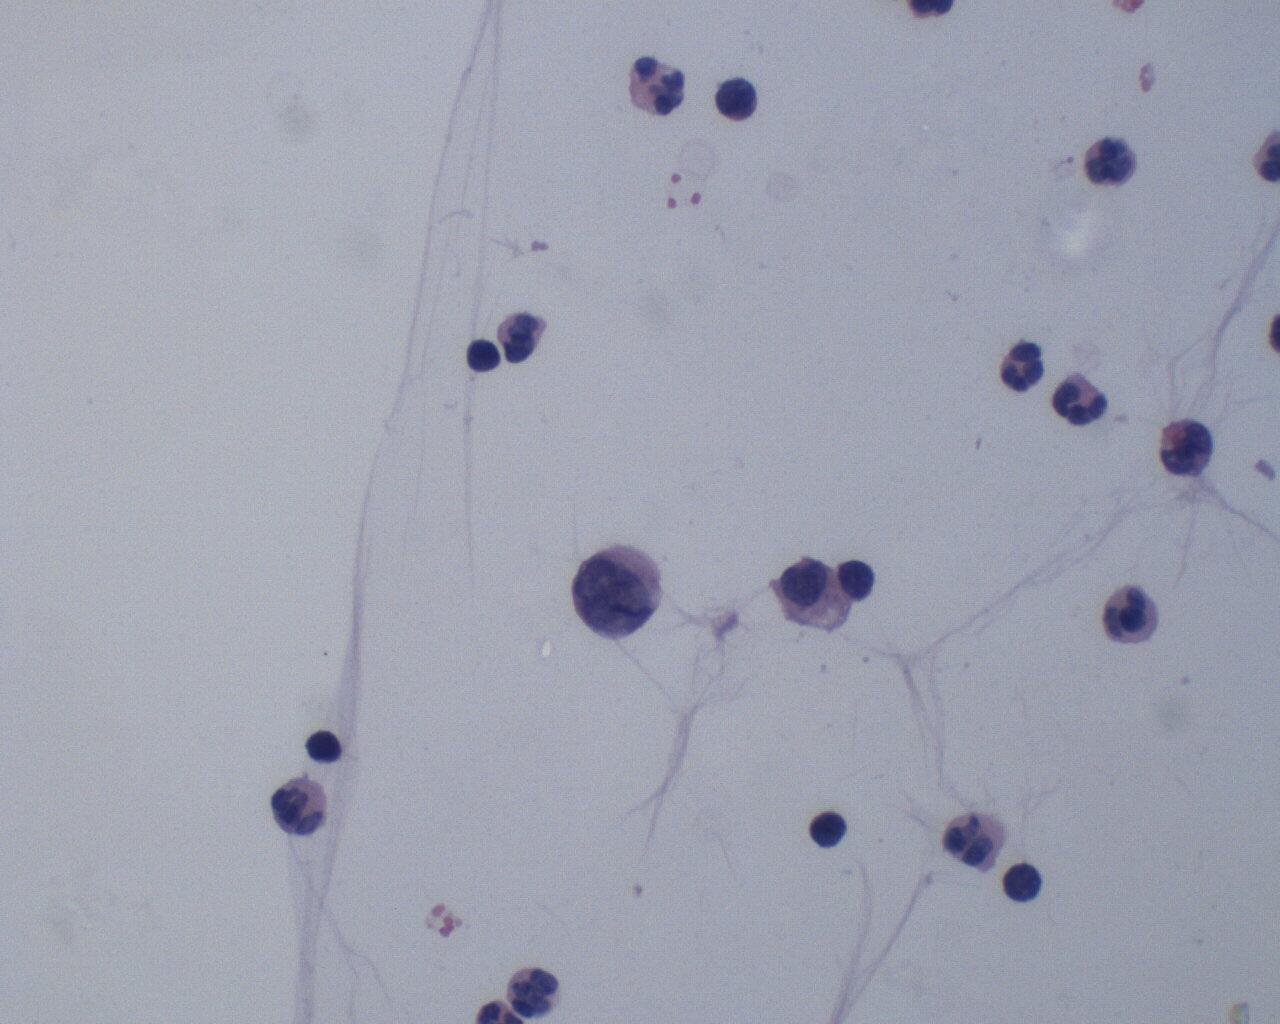ab: (573, 540, 666, 646)
lymph: (709, 70, 758, 127), (299, 722, 349, 768), (999, 858, 1046, 905), (805, 807, 848, 857), (461, 335, 508, 378)
neutro: (1099, 576, 1166, 649), (1078, 127, 1146, 191), (1049, 371, 1111, 435), (999, 338, 1053, 397)
